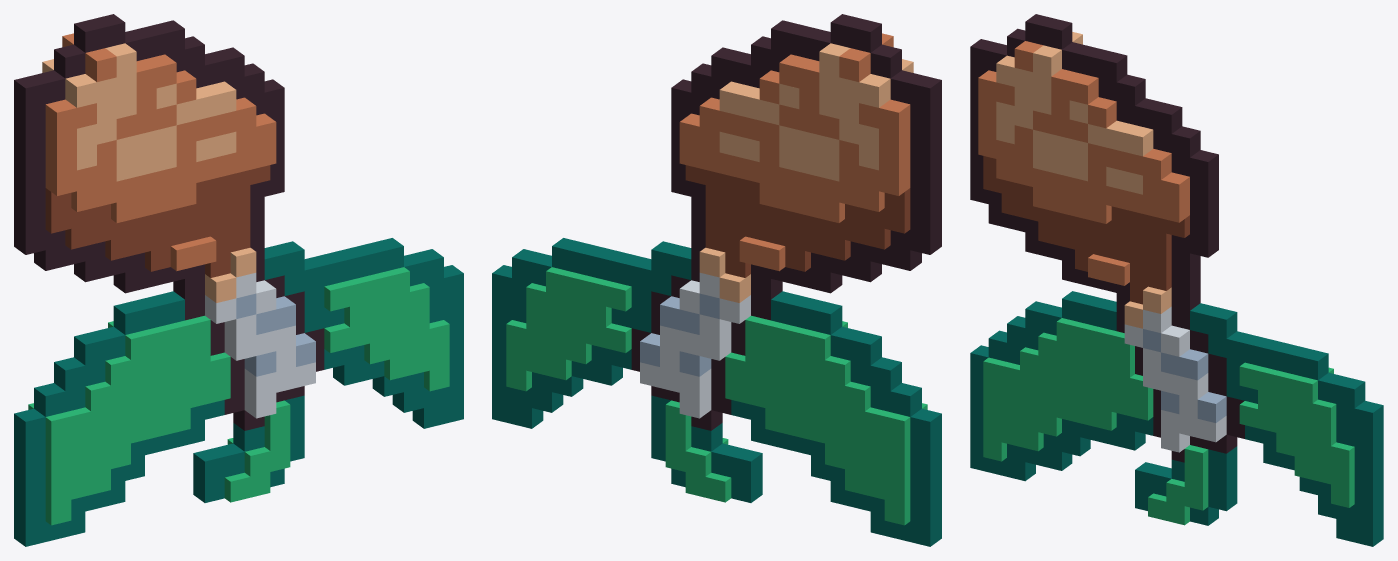
Rendered from chicken.fbx.
The picture shows the model from 3 angles, left to right: view 1: azimuth 30°, elevation 25°; view 2: azimuth 150°, elevation 25°; view 3: azimuth 330°, elevation 25°; orthographic projection. The views are drawn at different scales.
Visible parts, largest first — view 1: generated; view 2: generated; view 3: generated.
Boxes of the visible parts, x1,y1,x2,y2 form: generated: (14, 14, 463, 546); generated: (492, 14, 941, 546); generated: (970, 14, 1383, 546).
Bounding box in the file's own units: 220 × 240 × 30.
